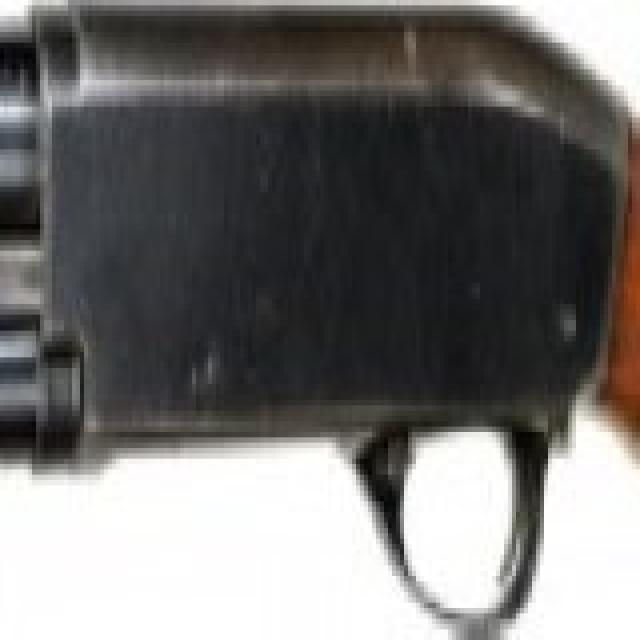Gun: (10, 9, 613, 640)
